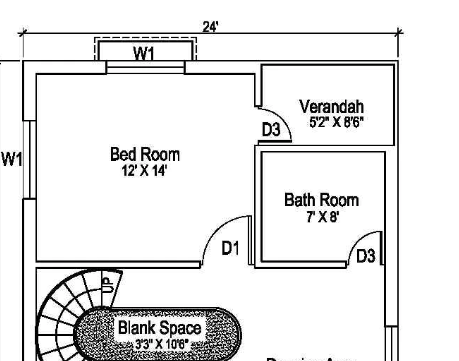door: (196, 199, 253, 287), (340, 215, 386, 289), (238, 99, 299, 149)
window: (12, 109, 56, 213), (102, 49, 190, 99)
